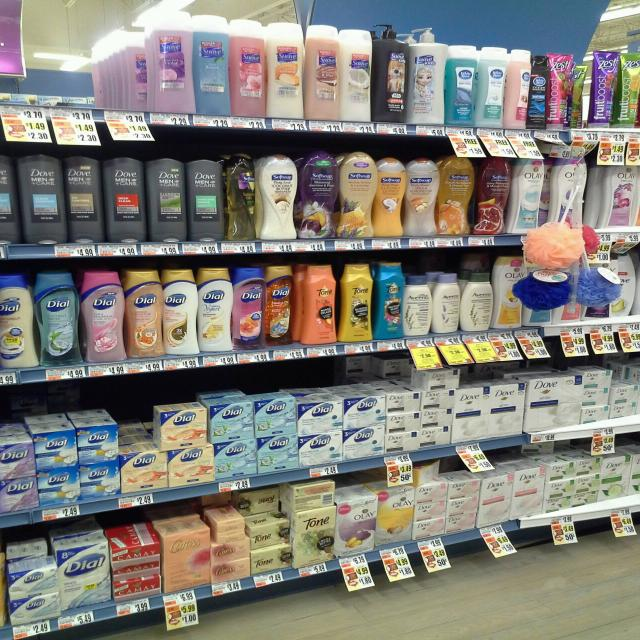empty: (1, 38, 121, 104)
